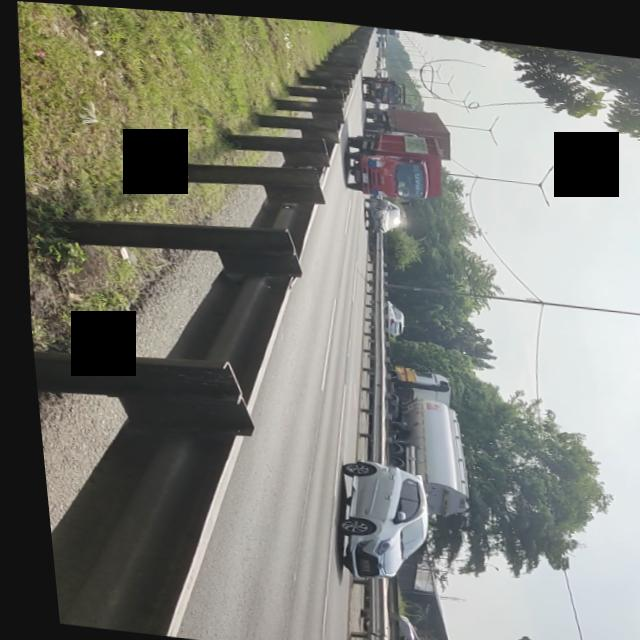Golongan I: (316, 450, 435, 585)
